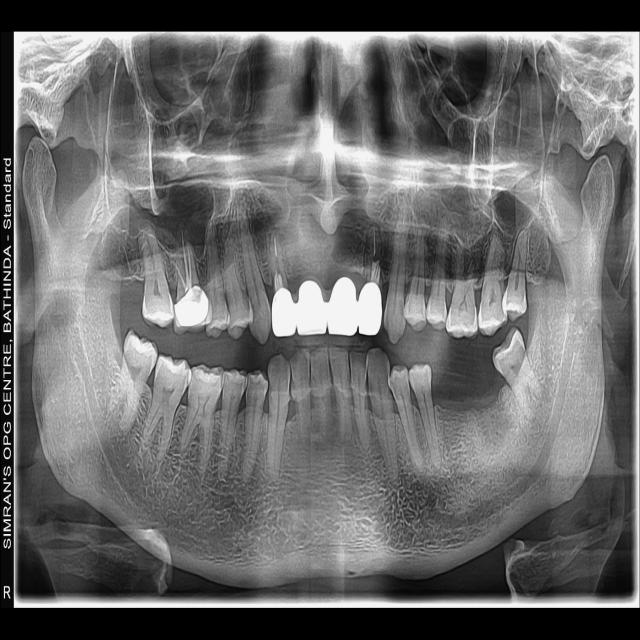Crown: (297, 274, 326, 345), (328, 275, 357, 341), (358, 281, 382, 335), (271, 287, 296, 337)
Mandibular Canal: (426, 308, 575, 529), (74, 324, 216, 521)
Missing teeth: (432, 365, 469, 410), (469, 359, 500, 411)
Root Canal Treatment: (181, 229, 190, 289), (170, 261, 186, 289), (187, 246, 192, 288), (373, 226, 376, 257), (274, 237, 278, 259)
